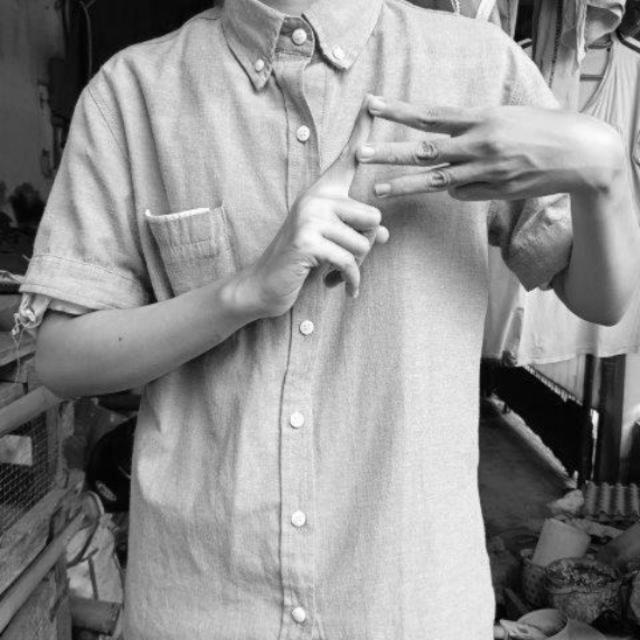B: (294, 83, 515, 297)
